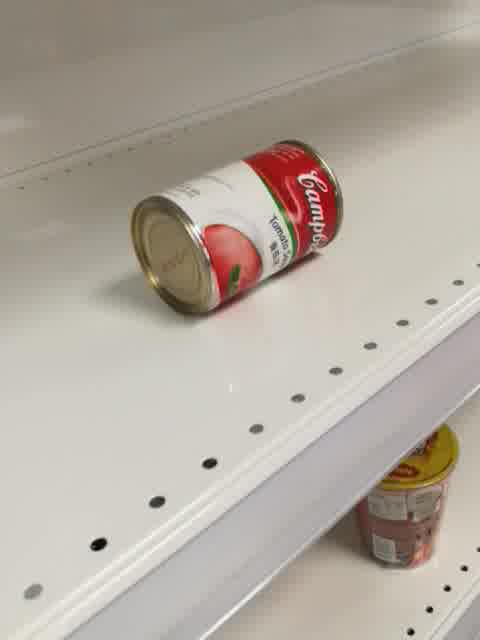tomatosoup: (127, 138, 344, 316)
